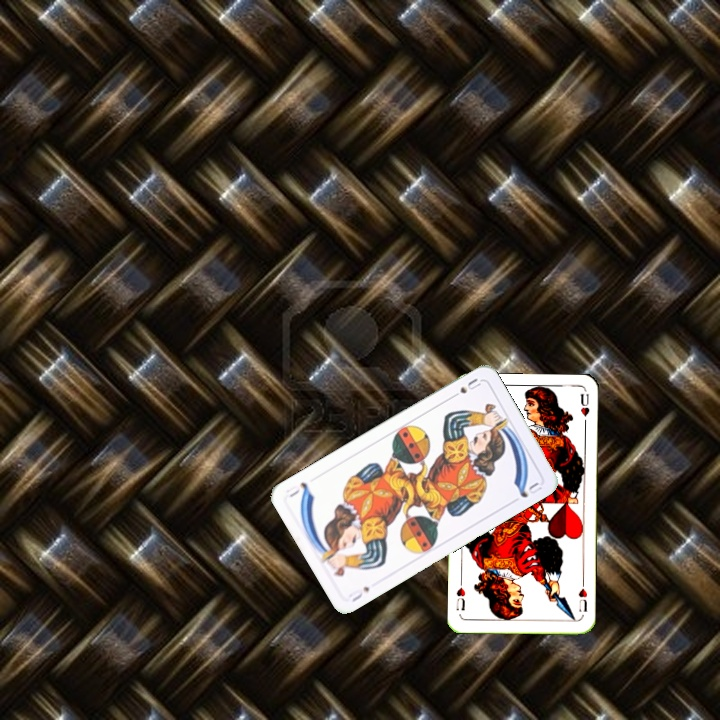HU: (575, 584, 590, 614)
SU: (446, 374, 483, 402), (345, 582, 372, 605)
